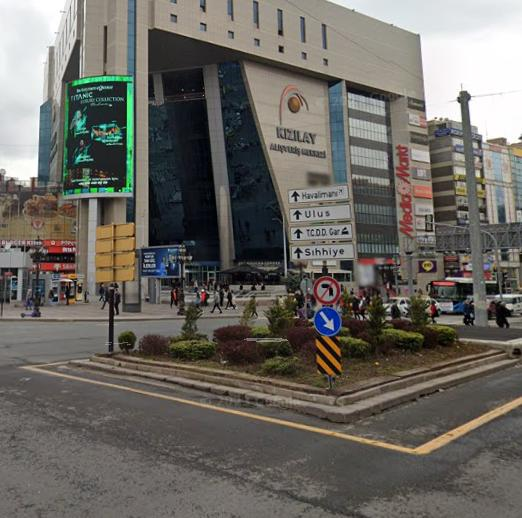leftturnsareforbidden: (311, 275, 344, 306)
